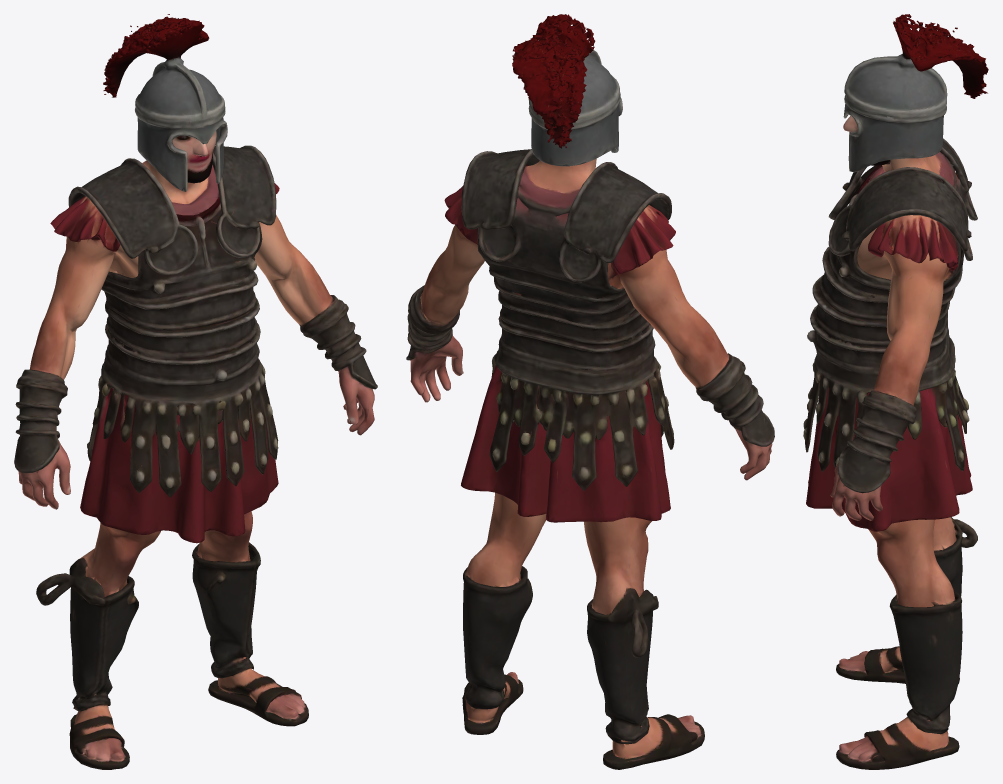
The model's file is legionary-r1024.glb.
The picture shows the model from 3 angles, left to right: view 1: azimuth 30°, elevation 25°; view 2: azimuth 150°, elevation 25°; view 3: azimuth 270°, elevation 25°; orthographic projection. The views are drawn at different scales.
Parts seen in each view (by area): view 1: world; view 2: world; view 3: world.
Boxes of the visible parts, bbox=[...] form: world: bbox=[14, 14, 377, 769]; world: bbox=[406, 14, 774, 769]; world: bbox=[803, 14, 988, 769].
Bounding box in the file's own units: 0.5244 × 0.9913 × 0.2378.
Materials: 1 (1 with a texture image).
